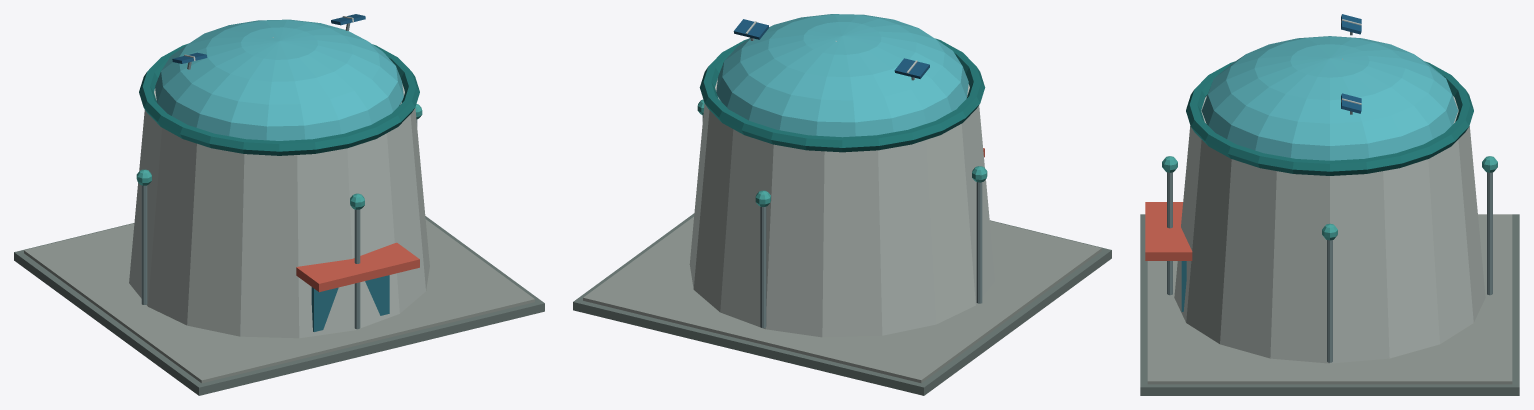
File: research_lab_lv4.glb
3 renders of one model, left to right at view 1: azimuth 30°, elevation 25°; view 2: azimuth 150°, elevation 25°; view 3: azimuth 270°, elevation 25°, orthographic. The views are drawn at different scales.
Parts seen in each view (by area): view 1: rough, glossy, metallic; view 2: rough, glossy, metallic; view 3: rough, glossy, metallic.
Boxes of the visible parts, x1=… form: rough: x1=14, y1=16, x2=544, y2=395; glossy: x1=155, y1=19, x2=403, y2=331; metallic: x1=141, y1=14, x2=417, y2=329; rough: x1=573, y1=21, x2=1111, y2=395; glossy: x1=716, y1=14, x2=968, y2=137; metallic: x1=702, y1=19, x2=982, y2=328; rough: x1=1140, y1=19, x2=1519, y2=395; glossy: x1=1181, y1=36, x2=1458, y2=311; metallic: x1=1167, y1=14, x2=1492, y2=362.
Bounding box in the file's own units: 9.6 × 6.49 × 8.9.
